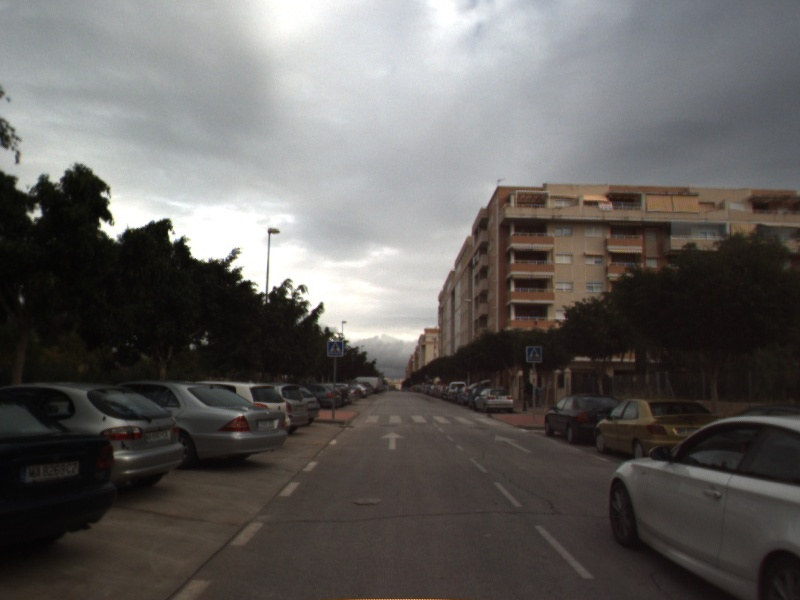STRAIGHT: (492, 433, 535, 455), (378, 429, 408, 452)
